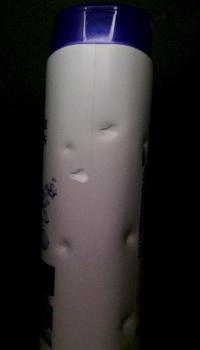dent_unacceptable: (112, 306, 140, 342), (64, 165, 96, 188), (116, 225, 142, 251), (95, 118, 123, 140), (53, 234, 77, 258), (59, 138, 80, 158), (136, 133, 152, 150)
